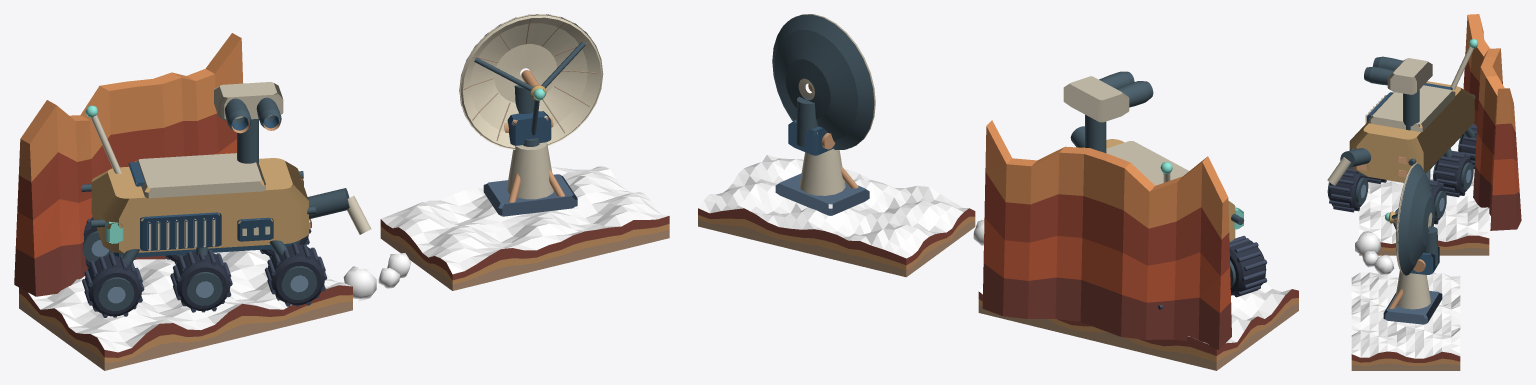
The model's file is marte-cumbre.obj.
3 views of the same model, side by side, from view 1: azimuth 30°, elevation 25°; view 2: azimuth 150°, elevation 25°; view 3: azimuth 270°, elevation 25° (orthographic). The views are drawn at different scales.
Parts seen in each view (by area): view 1: marte-cumbre; view 2: marte-cumbre; view 3: marte-cumbre.
Part boxes in pixels (<box>): marte-cumbre: <box>14,14,669,370</box>; marte-cumbre: <box>698,14,1298,370</box>; marte-cumbre: <box>1327,14,1521,370</box>.
Size of the model in its own units: 1.63 by 0.6062 by 0.6429.
